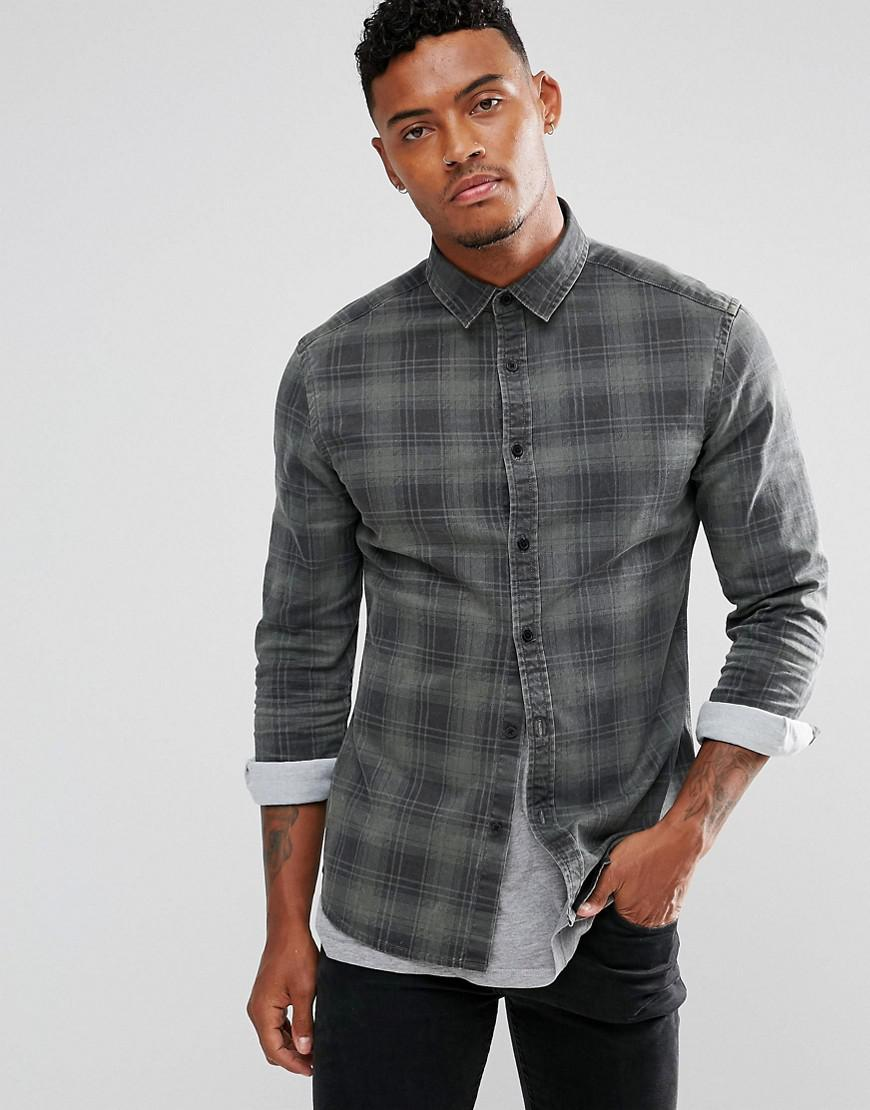teeshirt: (247, 254, 837, 962)
